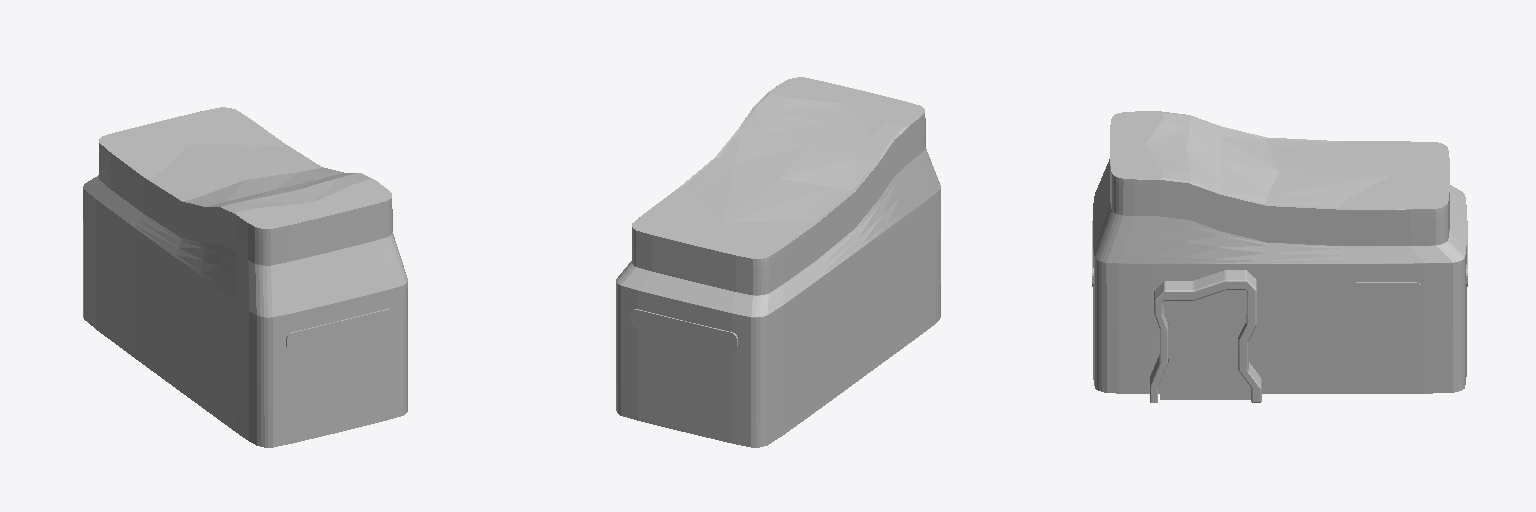
Rendered from Building_UV_0023.obj.
The picture shows the model from 3 angles: view 1: azimuth 30°, elevation 25°; view 2: azimuth 150°, elevation 25°; view 3: azimuth 270°, elevation 25°; orthographic projection.
Visible parts, largest first — view 1: Building_UV_00023; view 2: Building_UV_00023; view 3: Building_UV_00023.
Part boxes in pixels (x1,y1,x2,y2): Building_UV_00023: (83, 107, 407, 447); Building_UV_00023: (616, 77, 940, 447); Building_UV_00023: (1092, 111, 1467, 402).
Bounding box in the file's own units: 612 × 702 × 1136.